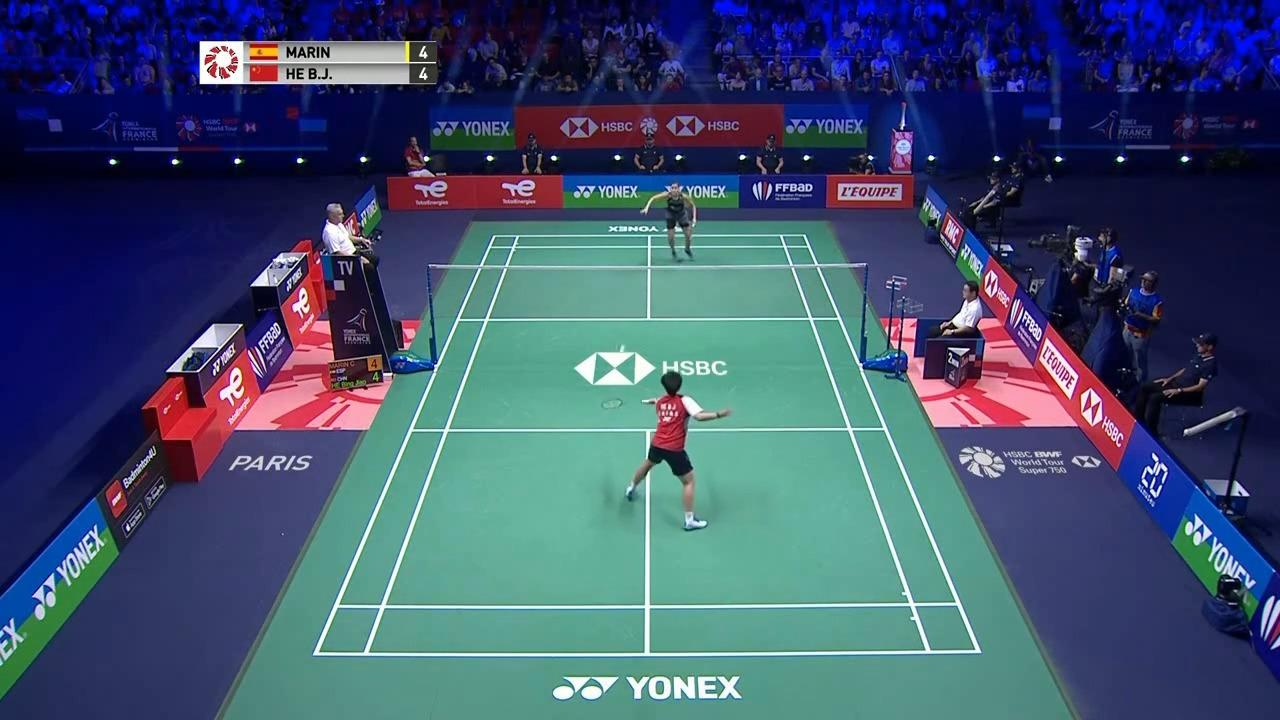shuttle: (615, 344, 628, 355)
